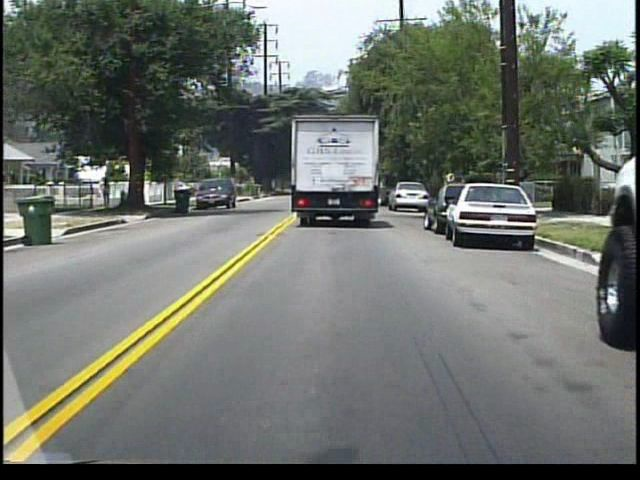person: (103, 178, 115, 211)
